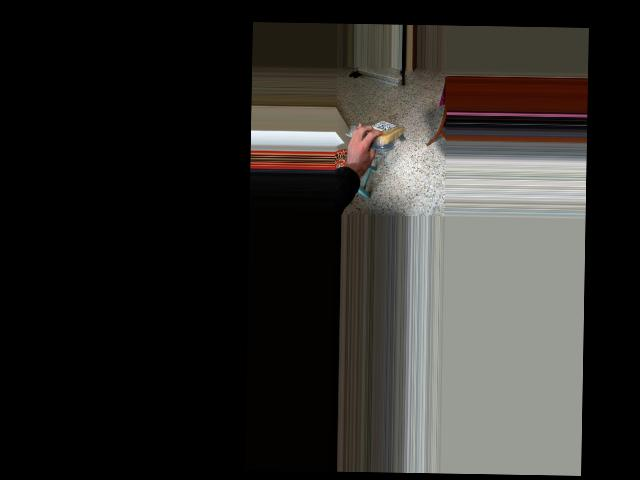cheese: (353, 120, 405, 147)
